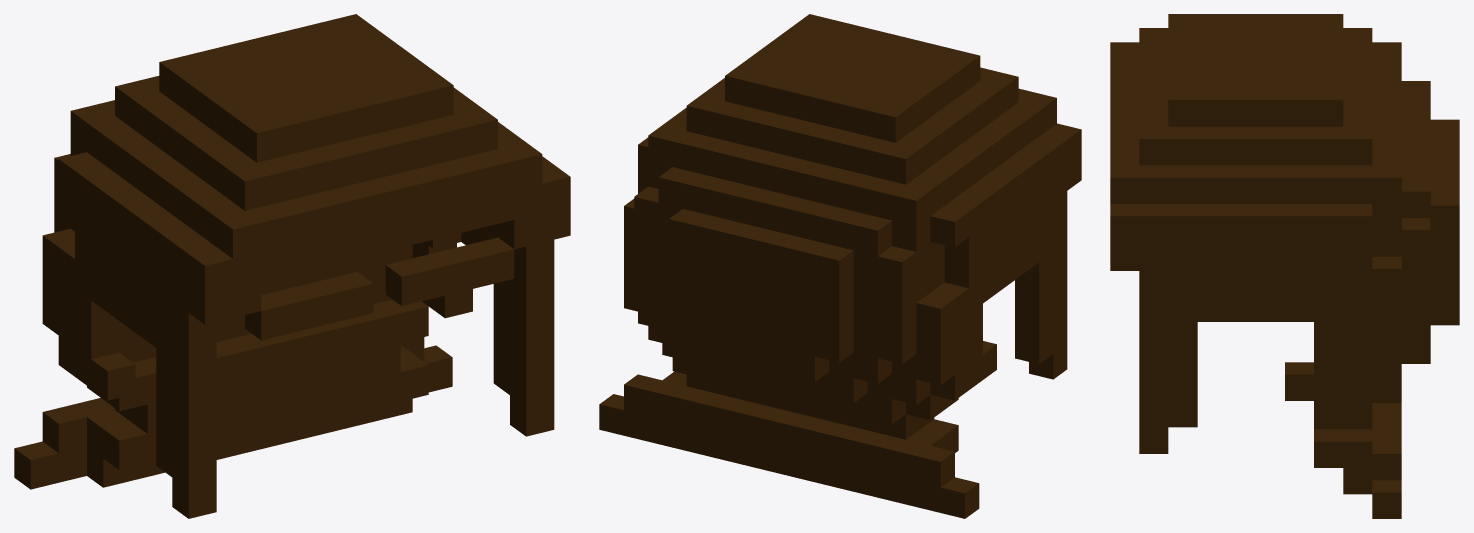
Rendered from Union_40.fbx.
3 renders of one model, left to right at view 1: azimuth 30°, elevation 25°; view 2: azimuth 150°, elevation 25°; view 3: azimuth 270°, elevation 25°, orthographic. The views are drawn at different scales.
Parts seen in each view (by area): view 1: Union_40; view 2: Union_40; view 3: Union_40.
Part boxes in pixels (x1,y1,x2,y2): Union_40: (14,14,570,518); Union_40: (599,14,1081,518); Union_40: (1110,14,1459,518).
Bounding box in the file's own units: 15 × 14 × 12.
Materials: 1 (1 with a texture image).
